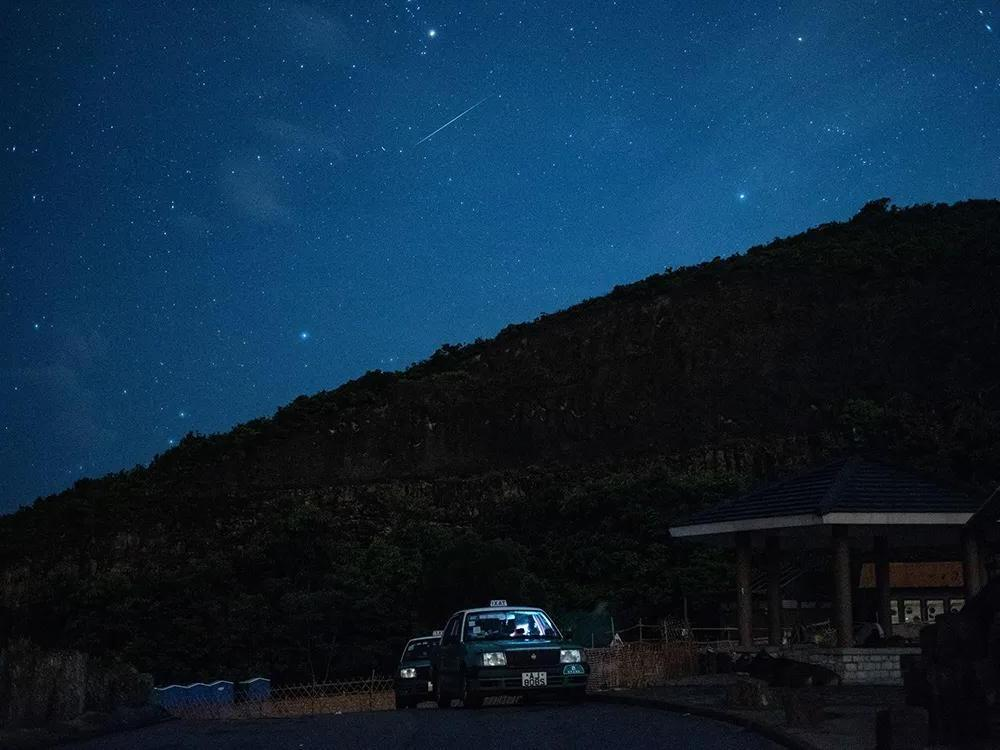meteorite: (398, 85, 497, 153)
